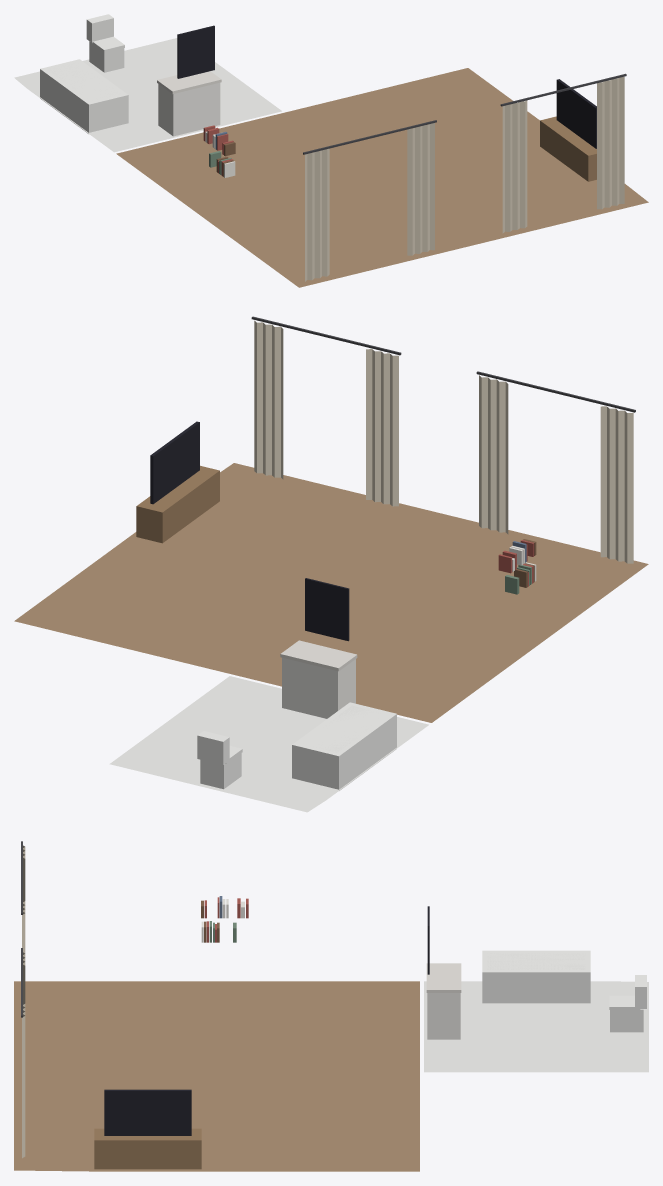
Rendered from fine-s1.glb.
3 renders of one model, top to bottom at view 1: azimuth 30°, elevation 25°; view 2: azimuth 150°, elevation 25°; view 3: azimuth 270°, elevation 25°, orthographic. The views are drawn at different scales.
Parts seen in each view (by area): view 1: soft-s1, vanity.000, bathtub.000, tv-console.000, toilet.000; view 2: soft-s1, vanity.000, bathtub.000, tv-console.000, toilet.000; view 3: soft-s1, tv-console.000, bathtub.000, vanity.000, toilet.000.
Boxes of the visible parts, left/top/right/bottom form: soft-s1: left=14, top=38, right=648, bottom=287; vanity.000: left=157, top=25, right=221, bottom=136; bathtub.000: left=40, top=59, right=128, bottom=133; tv-console.000: left=540, top=79, right=596, bottom=181; toilet.000: left=86, top=14, right=124, bottom=72; soft-s1: left=14, top=316, right=648, bottom=812; vanity.000: left=280, top=578, right=357, bottom=718; bathtub.000: left=292, top=702, right=396, bottom=790; tv-console.000: left=136, top=421, right=219, bottom=543; toilet.000: left=197, top=731, right=242, bottom=789; soft-s1: left=14, top=841, right=648, bottom=1171; tv-console.000: left=94, top=1089, right=201, bottom=1169; bathtub.000: left=482, top=950, right=590, bottom=1003; vanity.000: left=426, top=906, right=461, bottom=1039; toilet.000: left=609, top=975, right=646, bottom=1032.
Size of the model in its own units: 6.73 by 2.41 by 9.48.
